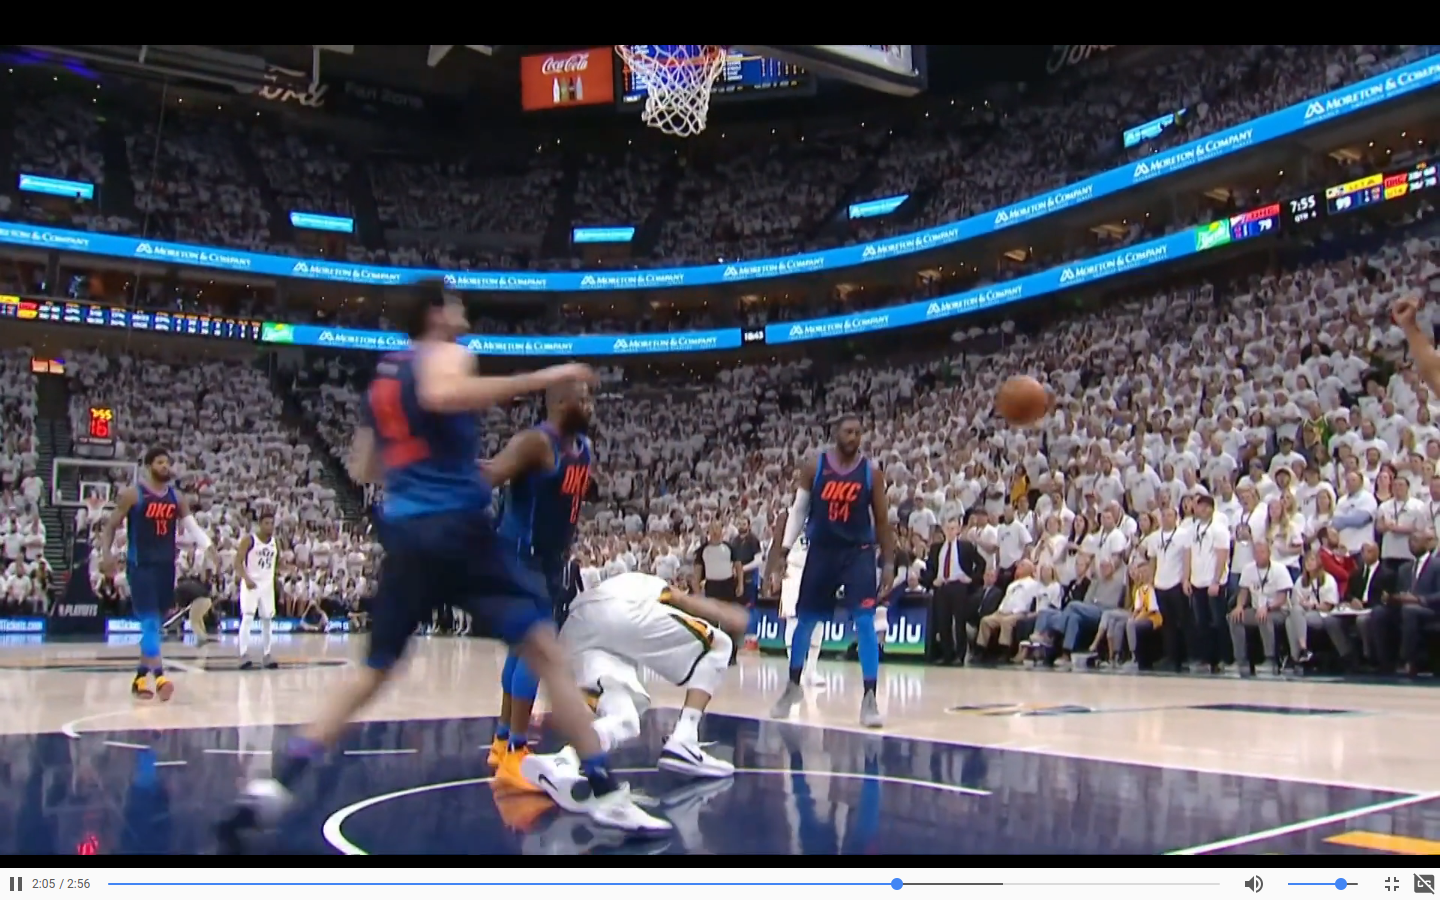basketball: (988, 372, 1055, 436)
basketball player: (255, 274, 661, 840), (561, 556, 745, 797), (768, 406, 901, 732), (501, 371, 595, 812), (101, 443, 212, 709), (221, 512, 293, 676)
